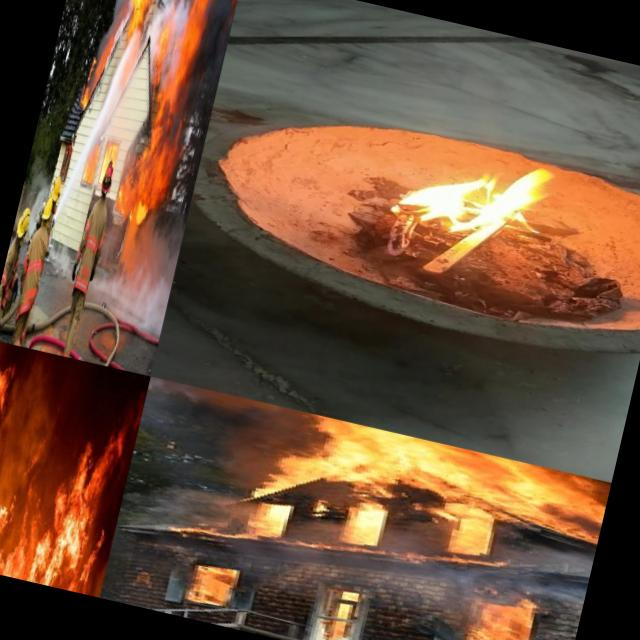fire: (264, 408, 610, 547), (384, 120, 577, 262), (0, 401, 131, 596), (134, 0, 215, 222), (154, 552, 244, 612), (454, 591, 546, 640), (331, 489, 399, 553), (250, 471, 304, 542), (426, 511, 494, 564), (163, 516, 258, 553), (0, 352, 16, 567), (76, 26, 114, 112), (110, 154, 148, 228), (149, 7, 177, 89), (141, 86, 165, 160), (123, 0, 162, 40), (80, 148, 101, 188), (99, 142, 112, 184), (108, 143, 120, 166)
smoke: (120, 376, 280, 534), (178, 0, 243, 140), (84, 250, 176, 336), (504, 534, 594, 610), (158, 0, 194, 89), (137, 0, 179, 67), (130, 217, 184, 266), (26, 167, 54, 236), (103, 0, 142, 33), (22, 152, 42, 208), (168, 0, 193, 11)
